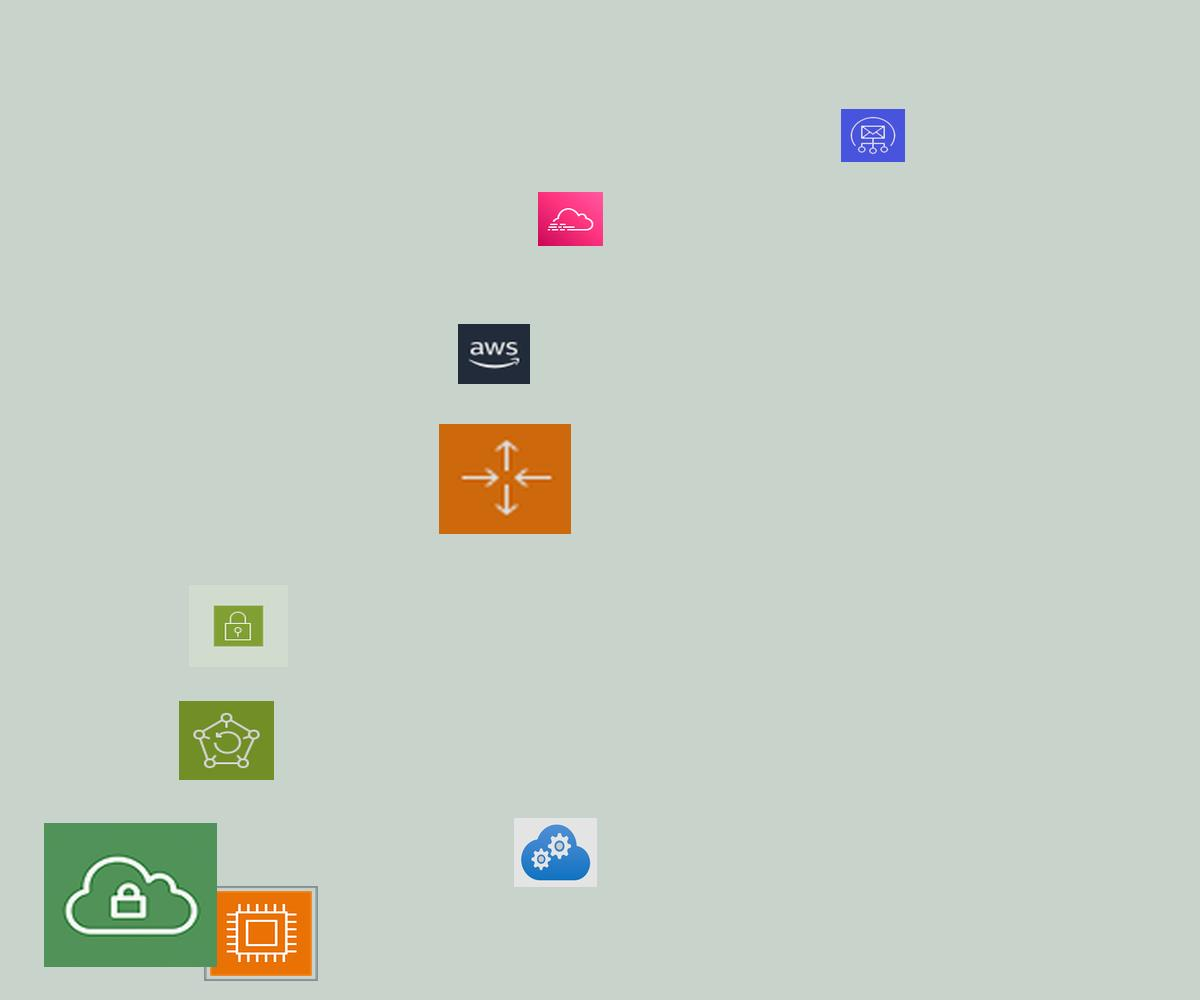AWS-Backup: (179, 701, 274, 780)
AWS-Category_Compute: (204, 886, 318, 981)
AWS-Cloud-logo: (458, 324, 530, 384)
AWS-CloudTrail: (538, 192, 603, 246)
AWS-Private_vpc: (44, 823, 217, 967)
AWS-Public-subnet: (189, 585, 288, 667)
AWS-Scaling-group: (439, 424, 571, 534)
AWS-Simple-Email-Service: (841, 109, 905, 162)
Azure_cloud_services: (514, 818, 597, 887)
